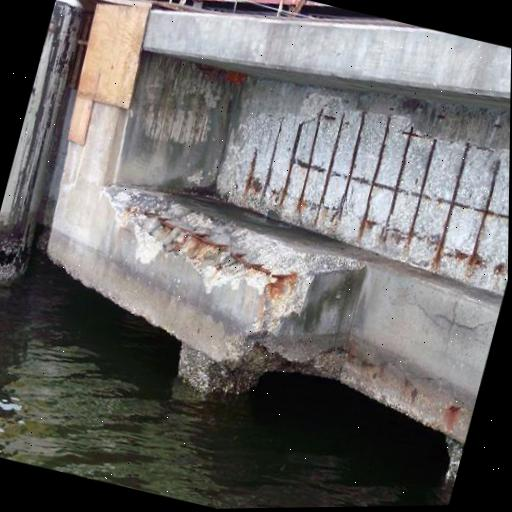exposed_rebar: (420, 141, 509, 269), (351, 115, 431, 239), (332, 112, 367, 223), (312, 112, 345, 226), (404, 139, 437, 241), (281, 118, 314, 205), (297, 109, 324, 202), (263, 121, 282, 197), (176, 229, 228, 253), (217, 253, 269, 273), (245, 148, 261, 194), (146, 212, 176, 232), (274, 273, 297, 280), (311, 162, 326, 172), (495, 264, 503, 276), (477, 147, 493, 152), (325, 115, 336, 120), (393, 228, 401, 234), (491, 124, 503, 128), (271, 189, 278, 195), (444, 253, 452, 256), (437, 115, 444, 118), (415, 178, 418, 184), (345, 122, 350, 125), (390, 108, 396, 110), (343, 174, 346, 178), (310, 209, 316, 211), (355, 165, 356, 168)
spalling: (218, 94, 510, 294), (106, 187, 359, 331), (143, 56, 225, 145)
